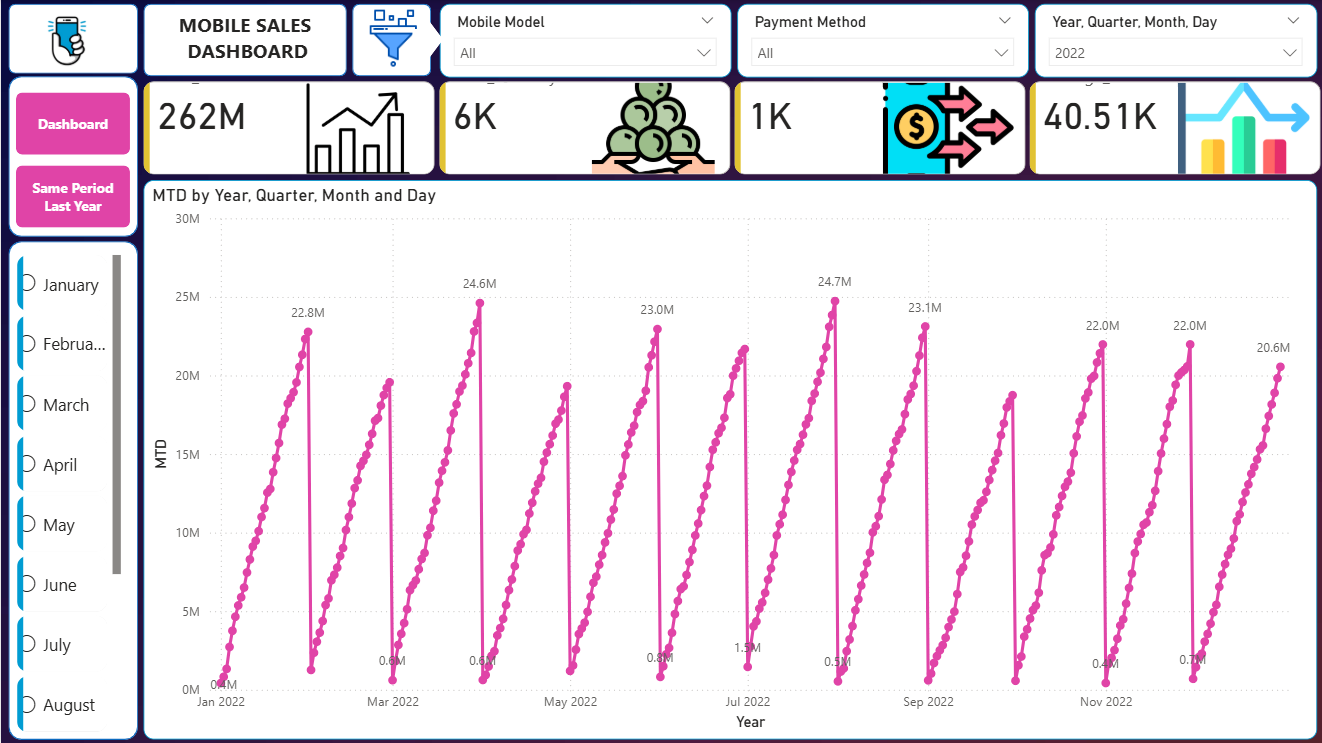

The page's visual inventory and layout, read from the dashboard file:
{"tool":"powerbi","page":{"name":"MTD Report","canvas":[1280,720],"ordinal":1},"visuals":[{"type":"shape","box":[7.5,3.8,125,67.5],"z":0},{"type":"image","box":[23.8,3.8,78.8,71.2],"z":1000},{"type":"shape","box":[7.5,73.8,125,155],"z":2000},{"type":"cardVisual","fields":{"Data":["Sales_Data.Total_Sales","Sales_Data.Total_Quantity","Sales_Data.Transactions","Sales_Data.Average_Price"]},"box":[132.5,73.8,1147.5,100],"z":3000},{"type":"slicer","fields":{"Values":["Sales_Data.Mobile Model"]},"box":[423.8,3.8,281.2,71.2],"z":4000},{"type":"slicer","fields":{"Values":["Sales_Data.Payment Method"]},"box":[710,3.8,281.2,71.2],"z":5000},{"type":"slicer","fields":{"Values":["Custom_Calendar.Date.Variation.Date Hierarchy.Year","Custom_Calendar.Date.Variation.Date Hierarchy.Quarter","Custom_Calendar.Date.Variation.Date Hierarchy.Month","Custom_Calendar.Date.Variation.Date Hierarchy.Day"]},"box":[997.5,3.8,272.5,71.2],"z":6000},{"type":"shape","box":[338.8,3.8,76.2,70],"z":7000},{"type":"image","box":[337.5,3.8,81.2,66.2],"z":8000},{"type":"shape","box":[397.5,17.5,30,40],"z":9000},{"type":"shape","box":[137.5,3.8,196.2,70],"z":10000},{"type":"textbox","box":[156.2,6.2,162.5,63.8],"z":11000},{"type":"lineChart","fields":{"Category":["Custom_Calendar.Date.Variation.Date Hierarchy.Year","Custom_Calendar.Date.Variation.Date Hierarchy.Quarter","Custom_Calendar.Date.Variation.Date Hierarchy.Month","Custom_Calendar.Date.Variation.Date Hierarchy.Day"],"Y":["Sales_Data.MTD"]},"box":[137.5,173.8,1132.5,540],"z":12000},{"type":"shape","box":[7.5,232.5,125,481.2],"z":13000},{"type":"listSlicer","fields":{"Values":["Custom_Calendar.Date.Variation.Date Hierarchy.Month"]},"box":[11.2,241.2,110,472.5],"z":14000},{"type":"pageNavigator","box":[15,88.8,110,130],"z":15000}]}

Visuals, with their boxes in screenshot pixels (x1, y1, x2, y2), scaled from the page's 1280x720 canvas onto the 1322x743 screenshot:
shape: [x1=8, y1=4, x2=137, y2=74]
image: [x1=25, y1=4, x2=106, y2=77]
shape: [x1=8, y1=76, x2=137, y2=236]
cardVisual - Sales_Data.Total_Sales x Sales_Data.Total_Quantity: [x1=137, y1=76, x2=1321, y2=179]
slicer - Sales_Data.Mobile Model: [x1=438, y1=4, x2=728, y2=77]
slicer - Sales_Data.Payment Method: [x1=733, y1=4, x2=1024, y2=77]
slicer - Custom_Calendar.Date.Variation.Date Hierarchy.Year x Custom_Calendar.Date.Variation.Date Hierarchy.Quarter: [x1=1030, y1=4, x2=1312, y2=77]
shape: [x1=350, y1=4, x2=429, y2=76]
image: [x1=349, y1=4, x2=432, y2=72]
shape: [x1=411, y1=18, x2=442, y2=59]
shape: [x1=142, y1=4, x2=345, y2=76]
textbox: [x1=161, y1=6, x2=329, y2=72]
lineChart - Custom_Calendar.Date.Variation.Date Hierarchy.Year x Custom_Calendar.Date.Variation.Date Hierarchy.Quarter: [x1=142, y1=179, x2=1312, y2=737]
shape: [x1=8, y1=240, x2=137, y2=736]
listSlicer - Custom_Calendar.Date.Variation.Date Hierarchy.Month: [x1=12, y1=249, x2=125, y2=736]
pageNavigator: [x1=15, y1=92, x2=129, y2=226]
